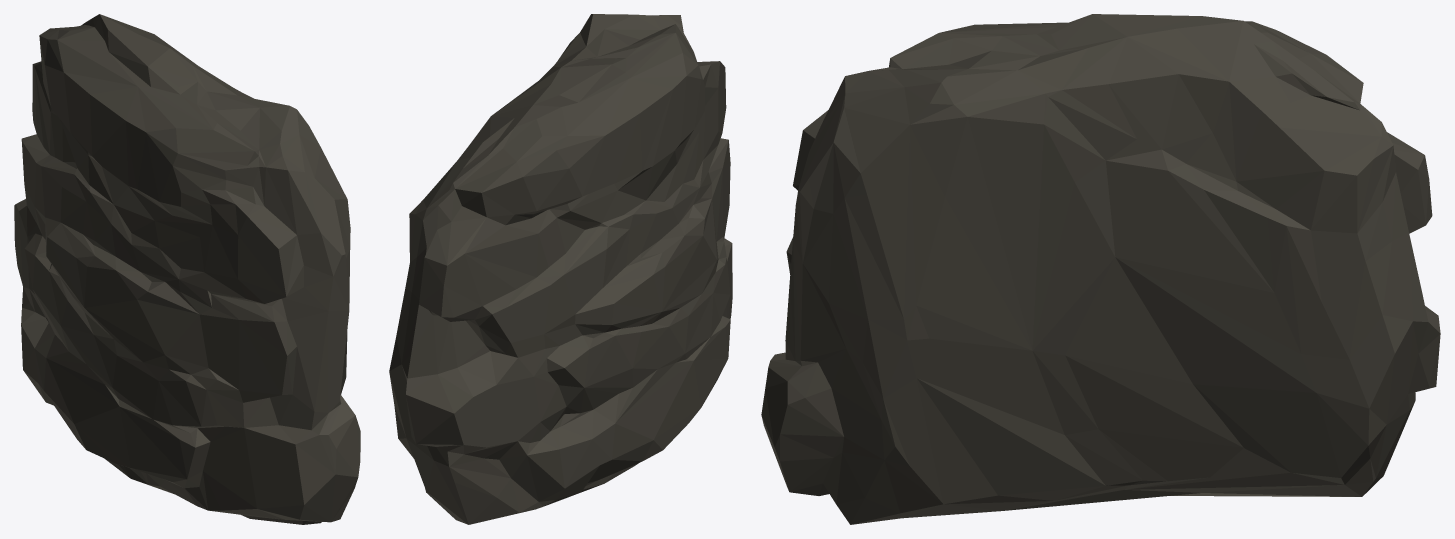
The model's file is synty-rock-wall-02.gltf.
3 renders of one model, left to right at view 1: azimuth 30°, elevation 25°; view 2: azimuth 150°, elevation 25°; view 3: azimuth 270°, elevation 25°, orthographic. The views are drawn at different scales.
Visible parts, largest first — view 1: SM_Rock_Wall_02; view 2: SM_Rock_Wall_02; view 3: SM_Rock_Wall_02.
Part boxes in pixels (x1,y1,x2,y2): SM_Rock_Wall_02: (14,14,360,524); SM_Rock_Wall_02: (389,14,732,524); SM_Rock_Wall_02: (761,14,1440,524).
Bounding box in the file's own units: 1.56 × 3.59 × 4.62.
Materials: 1 (1 with a texture image).
